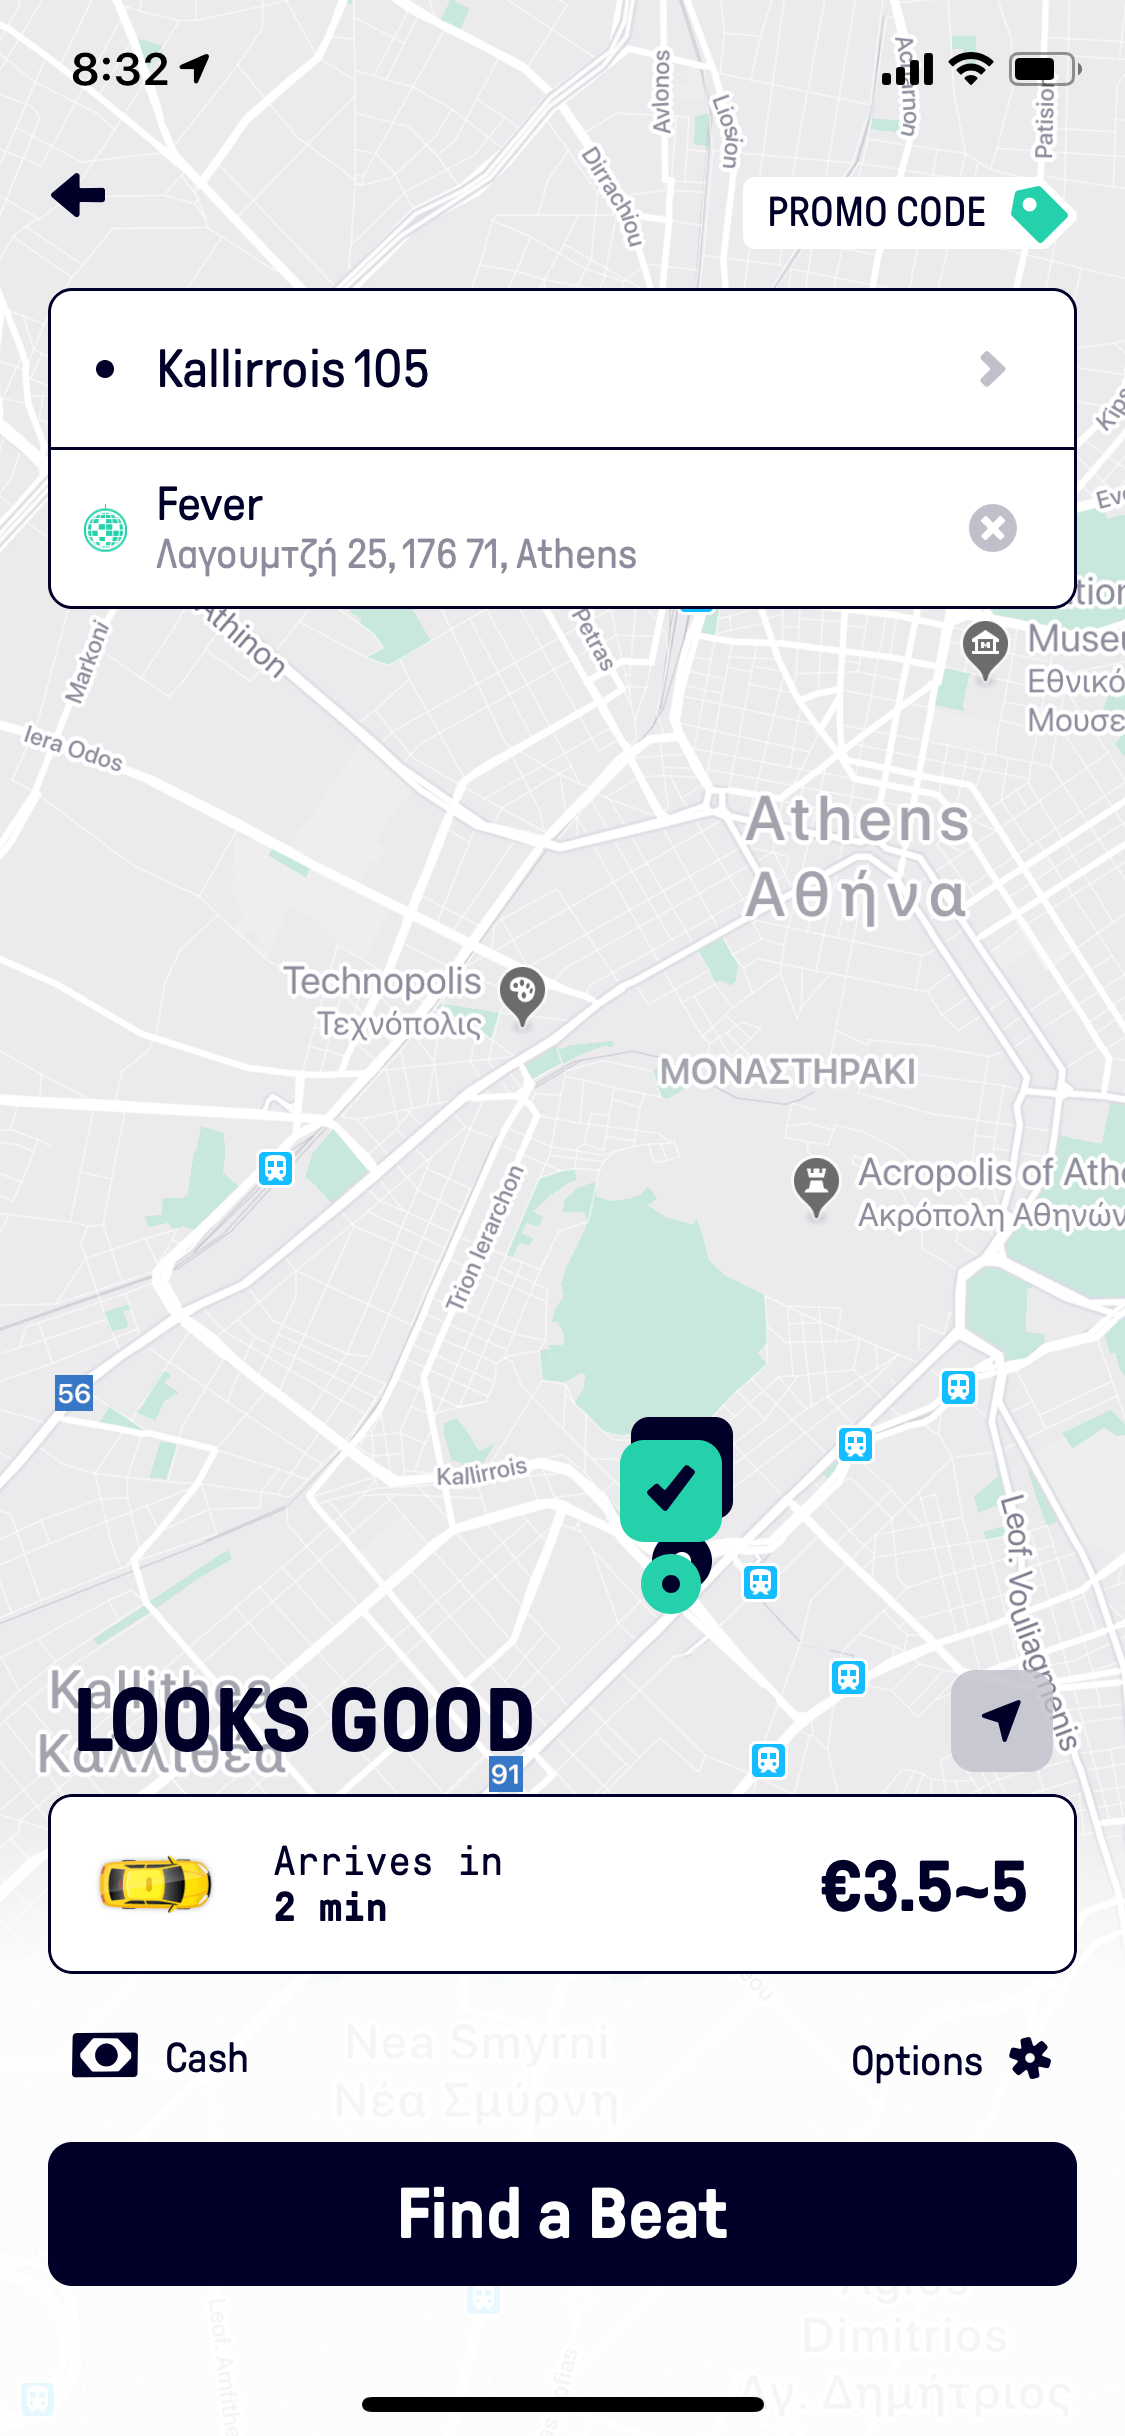Buttons: (42, 2128, 1081, 2301), (726, 144, 1085, 277), (820, 2003, 1061, 2108), (932, 1644, 1069, 1787), (19, 134, 134, 249)
